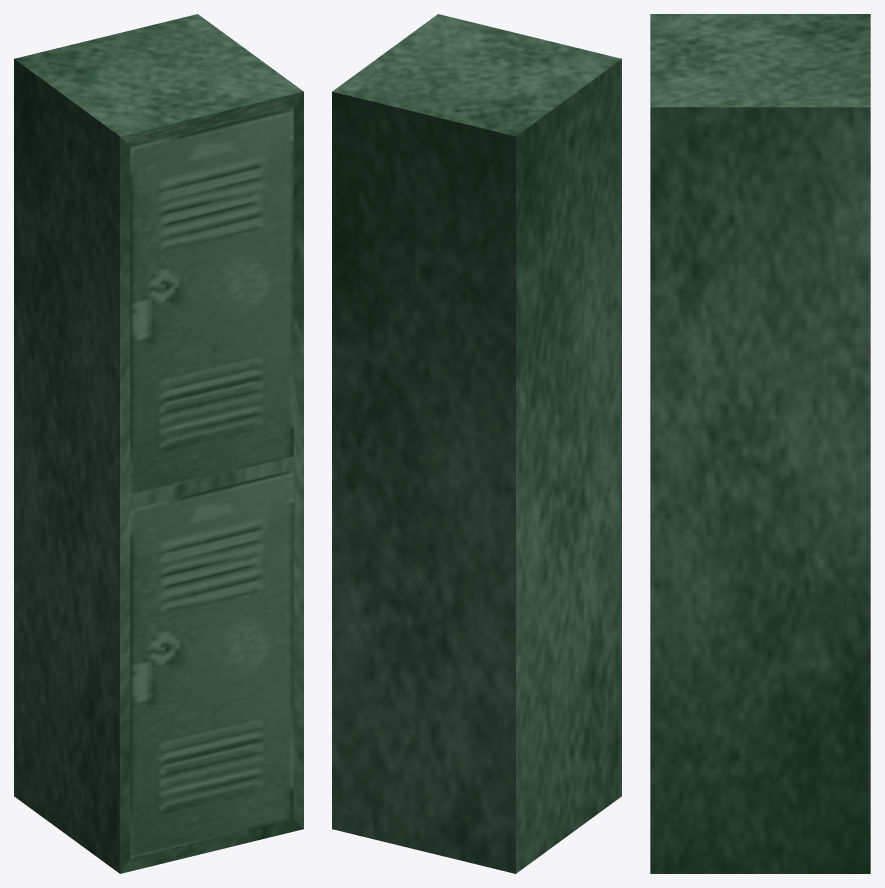
Rendered from ps1_styled_school_locker.glb.
The picture shows the model from 3 angles, left to right: view 1: azimuth 30°, elevation 25°; view 2: azimuth 150°, elevation 25°; view 3: azimuth 270°, elevation 25°; orthographic projection. The views are drawn at different scales.
Parts seen in each view (by area): view 1: Object_2, Object_3; view 2: Object_2; view 3: Object_2.
Boxes of the visible parts, box(x1,y1,x2,y2) form: Object_2: box(14, 14, 303, 873); Object_3: box(130, 107, 293, 858); Object_2: box(332, 14, 621, 873); Object_2: box(650, 14, 870, 873).
Size of the model in its own units: 2 by 7.67 by 2.
2 materials, 2 textured.
